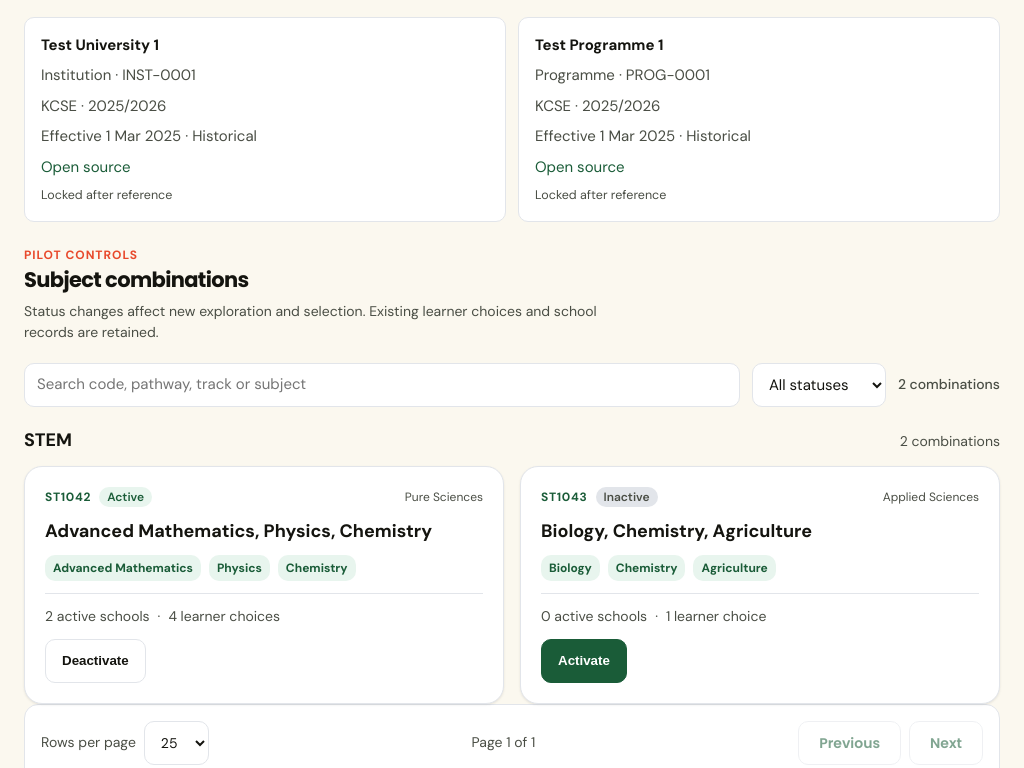
Test: SystemAdminCataloguePage › filters combinations by search term
(page scrolled)
In the search field named "Search combinations": (382, 385) x1=24 y1=363 x2=740 y2=407, type "agriculture"
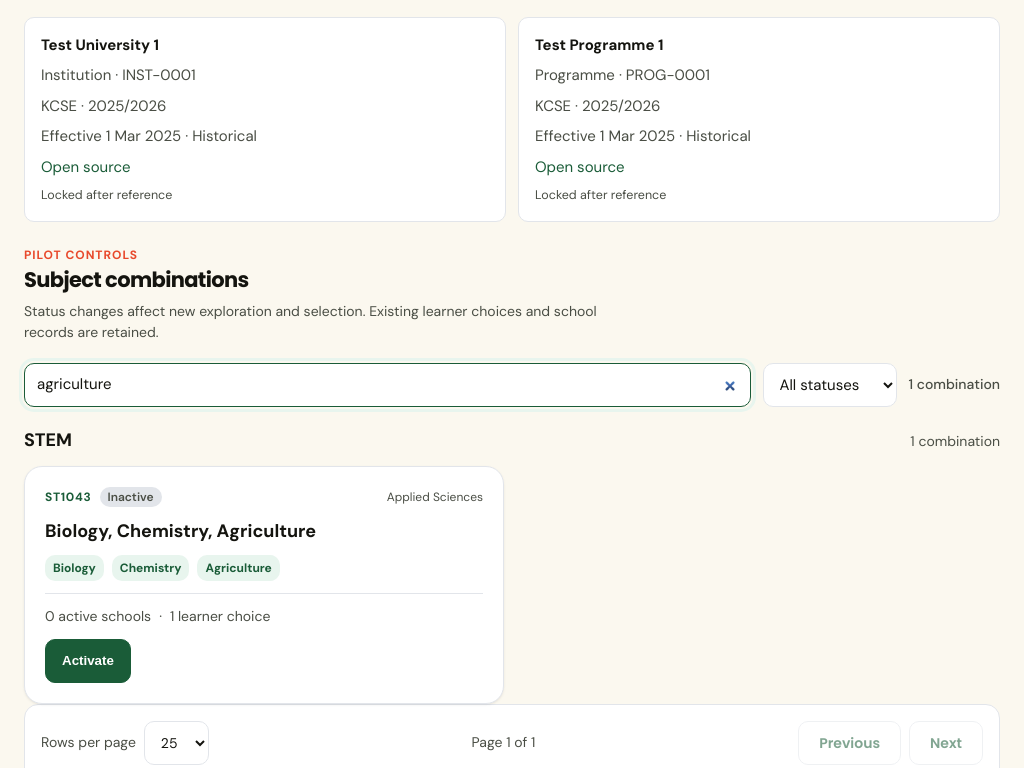
expect the heading "Biology, Chemistry, Agriculture" is shown: met, box x1=45 y1=519 x2=316 y2=543
expect the heading "Advanced Mathematics, Physics, Chemistry" is gone: met
